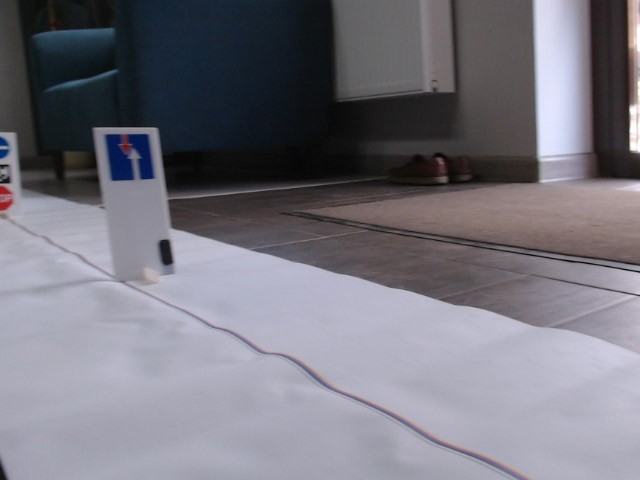priority_movement: (103, 133, 156, 182)
